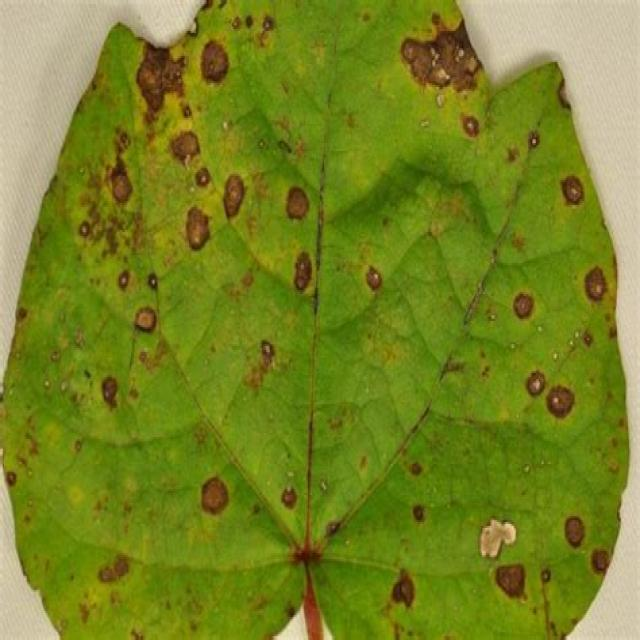Sick Lettuce: (0, 0, 631, 638)
